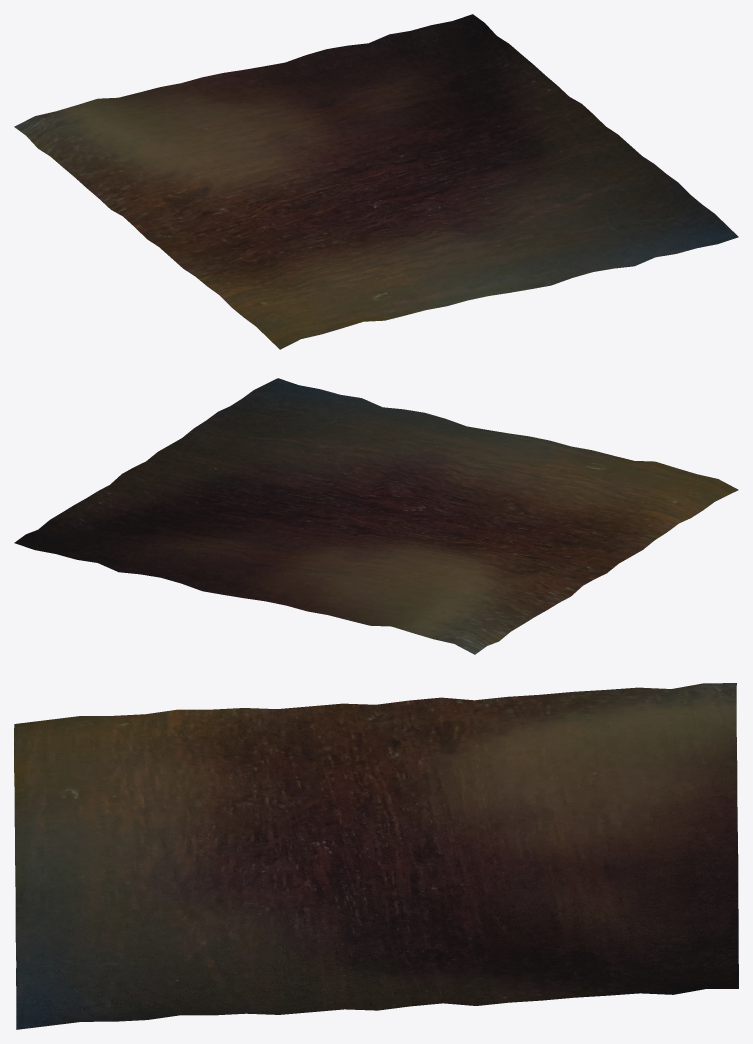
Rendered from ground.glb.
3 renders of one model, top to bottom at view 1: azimuth 30°, elevation 25°; view 2: azimuth 150°, elevation 25°; view 3: azimuth 270°, elevation 25°, orthographic. The views are drawn at different scales.
Parts seen in each view (by area): view 1: Plane; view 2: Plane; view 3: Plane.
Boxes of the visible parts, x1=… form: Plane: x1=14, y1=14, x2=738, y2=349; Plane: x1=14, y1=378, x2=738, y2=654; Plane: x1=14, y1=683, x2=738, y2=1029.
Size of the model in its own units: 166 by 14.19 by 166.
1 material, 1 textured.
